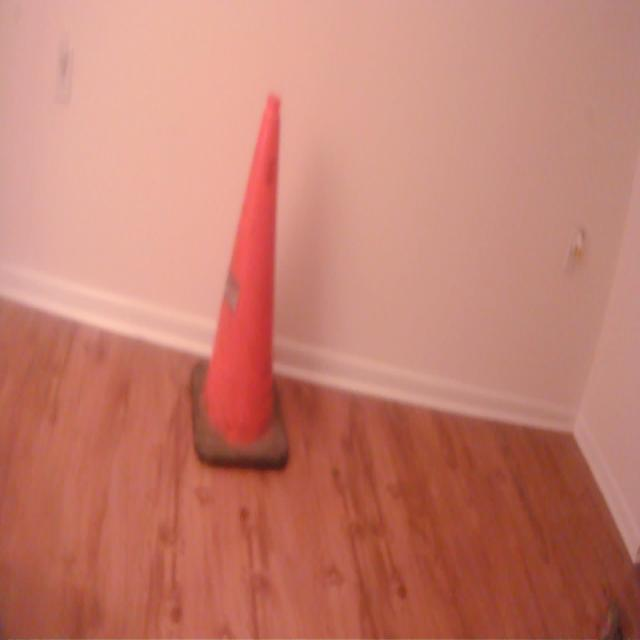traffic cone: (185, 85, 306, 482)
